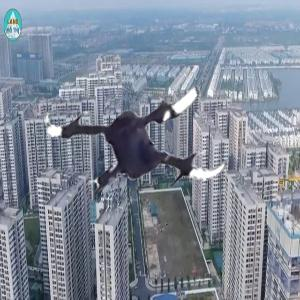drone: (48, 37, 239, 228)
